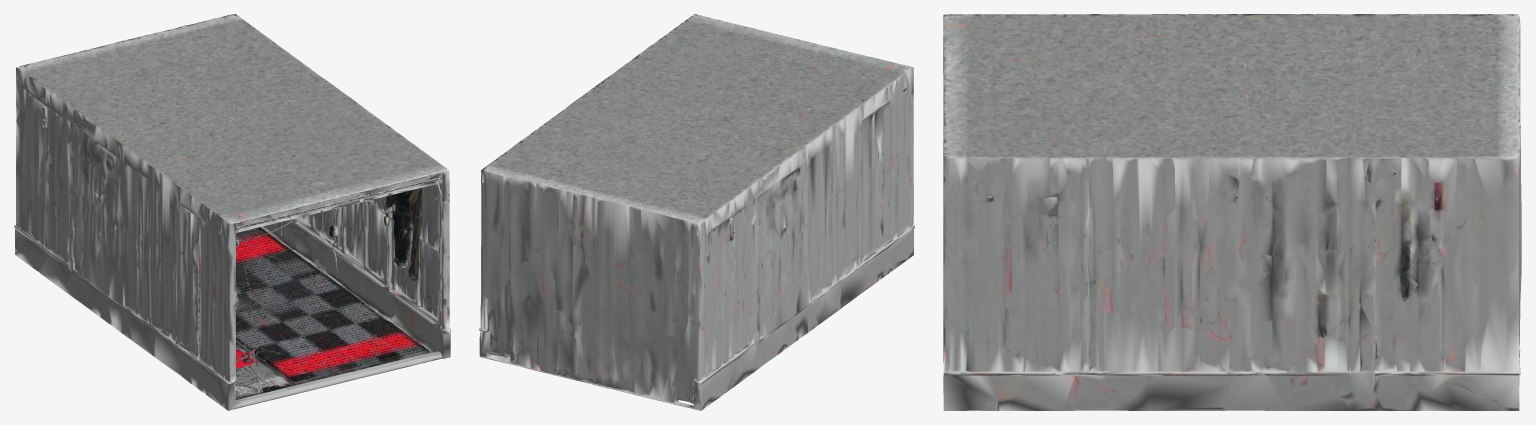
The model's file is garage.glb.
3 renders of one model, left to right at view 1: azimuth 30°, elevation 25°; view 2: azimuth 150°, elevation 25°; view 3: azimuth 270°, elevation 25°, orthographic. The views are drawn at different scales.
Size of the model in its own units: 1.16 by 0.9218 by 1.9.
Materials: 1 (1 with a texture image).
